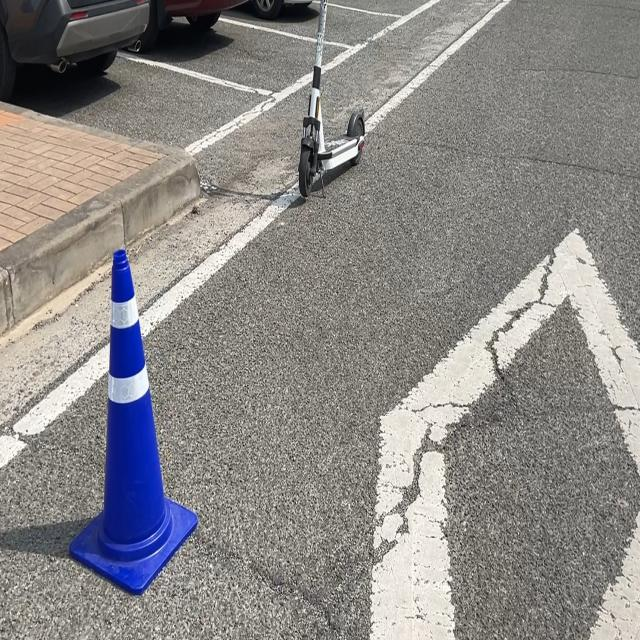b_rub: (68, 248, 197, 594)
